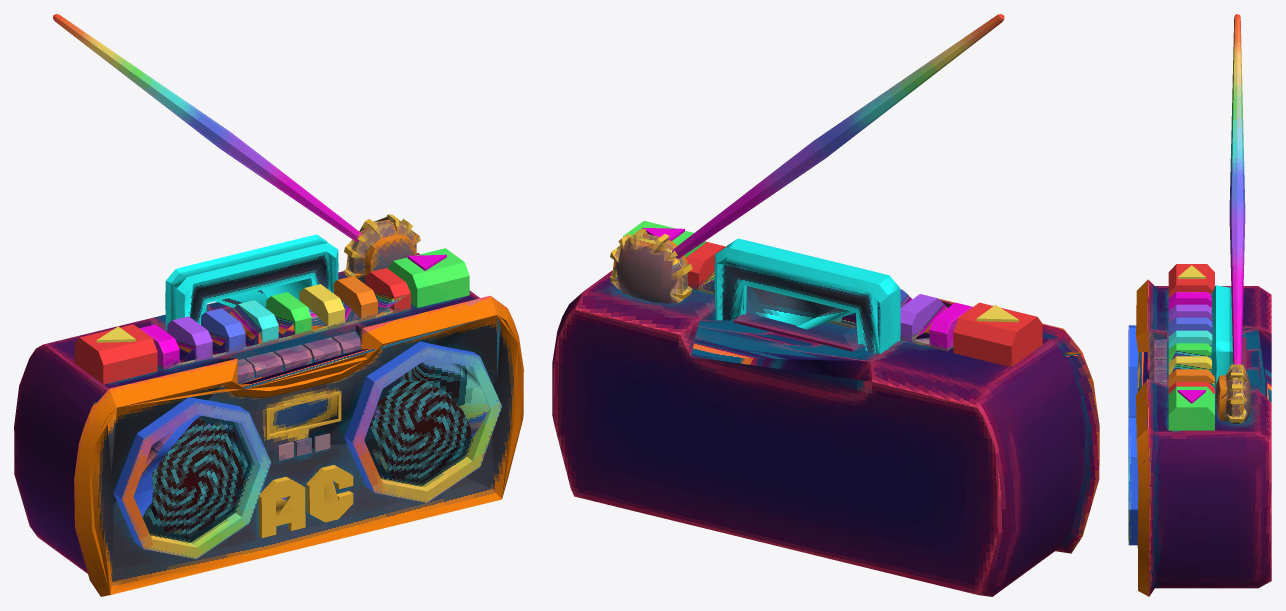
The model's file is item_boombox_neon.glb.
3 renders of one model, left to right at view 1: azimuth 30°, elevation 25°; view 2: azimuth 150°, elevation 25°; view 3: azimuth 270°, elevation 25°, orthographic. The views are drawn at different scales.
Visible parts, largest first — view 1: Boombox, button_prev, button_next; view 2: Boombox, button_prev, button_next; view 3: Boombox, button_next, button_prev.
Part boxes in pixels (<box>): Boombox: <box>14,14,523,596</box>; button_prev: <box>74,324,157,384</box>; button_next: <box>388,248,469,307</box>; Boombox: <box>552,14,1099,596</box>; button_prev: <box>953,302,1042,367</box>; button_next: <box>620,221,705,257</box>; Boombox: <box>1128,14,1271,596</box>; button_next: <box>1168,386,1214,430</box>; button_prev: <box>1168,264,1214,297</box>.
Bounding box in the file's own units: 0.5536 × 0.6362 × 0.1913.
1 material, 1 textured.
